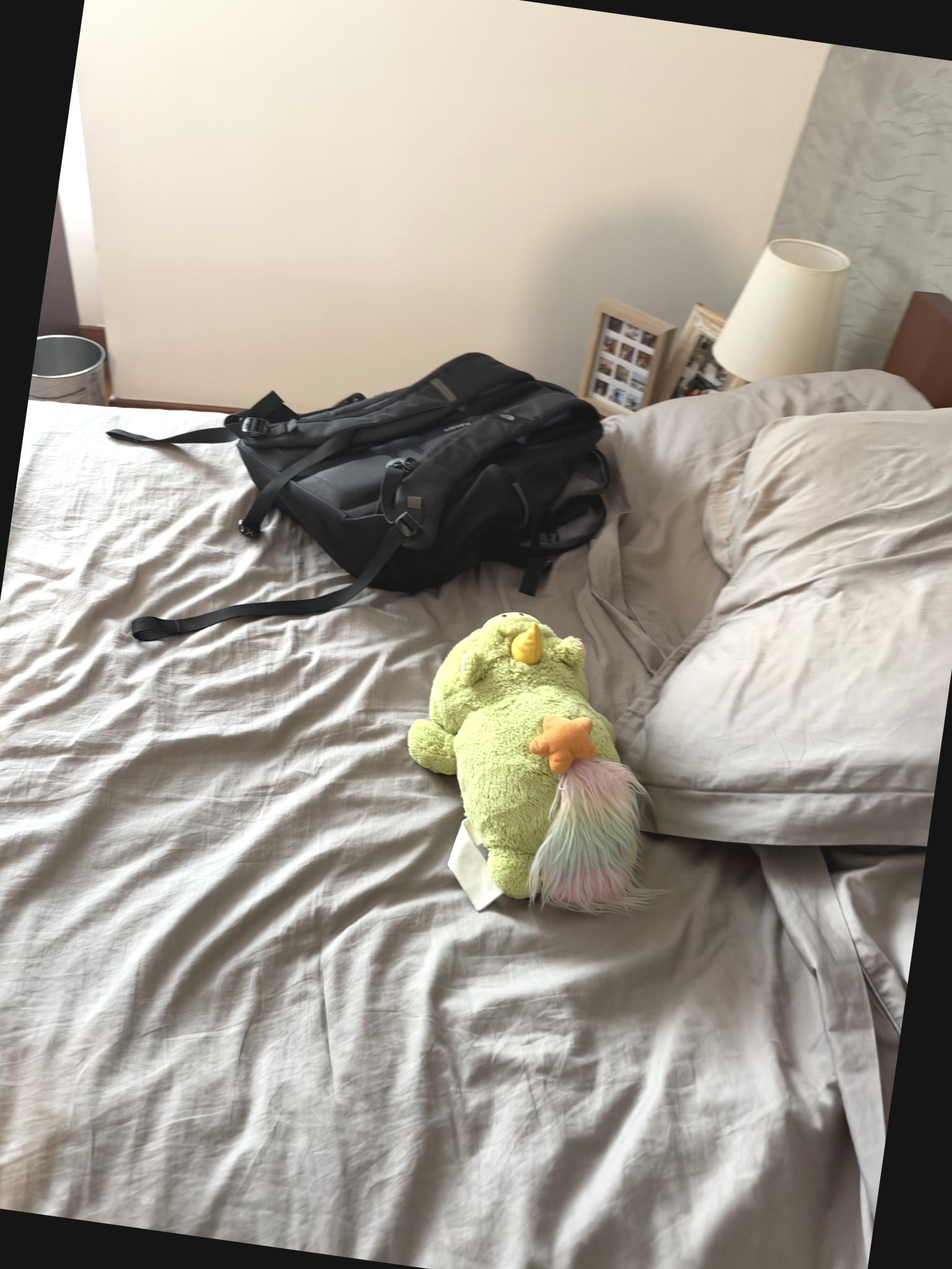peluche_martin: (385, 597, 706, 938)
